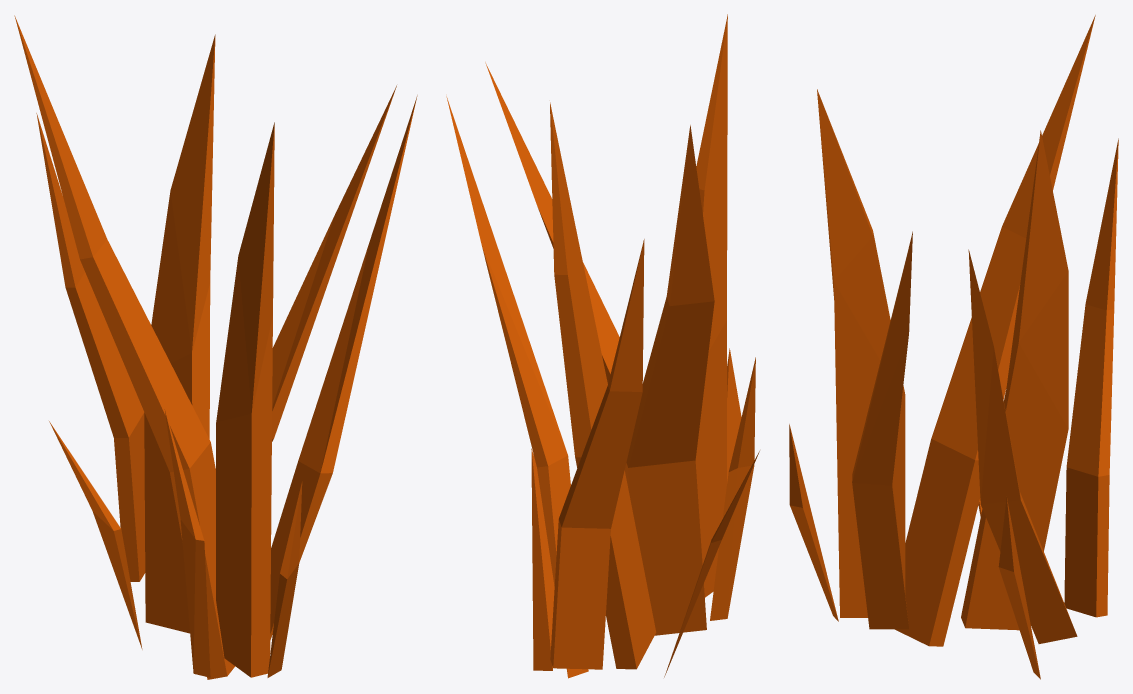
The model's file is Plant_03.fbx.
3 views of the same model, side by side, from view 1: azimuth 30°, elevation 25°; view 2: azimuth 150°, elevation 25°; view 3: azimuth 270°, elevation 25° (orthographic). The views are drawn at different scales.
Visible parts, largest first — view 1: Plant_03; view 2: Plant_03; view 3: Plant_03.
Boxes of the visible parts, <box> form: Plant_03: <box>14,15,417,679</box>; Plant_03: <box>446,14,759,678</box>; Plant_03: <box>789,15,1118,679</box>.
Bounding box in the file's own units: 83.32 × 148 × 76.18.
